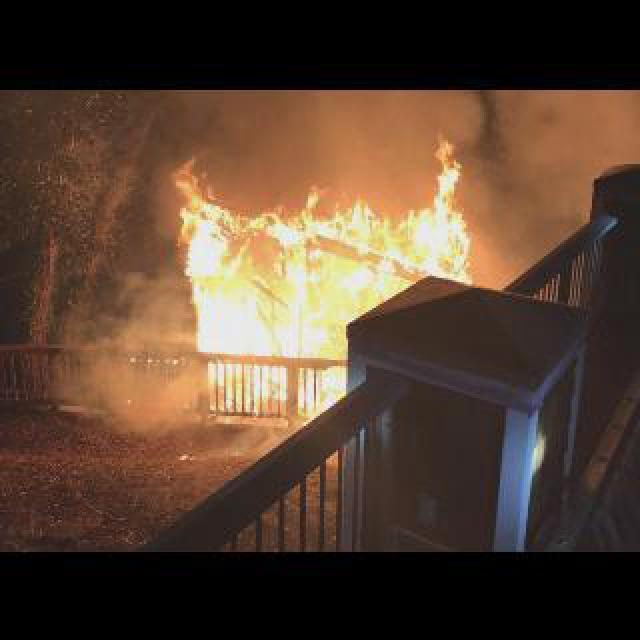fire: (479, 95, 635, 266), (43, 281, 188, 431), (198, 94, 434, 179)
smoke: (158, 134, 474, 406)
